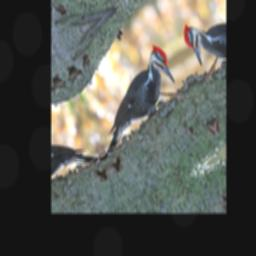Woodpecker: (74, 40, 190, 158)
